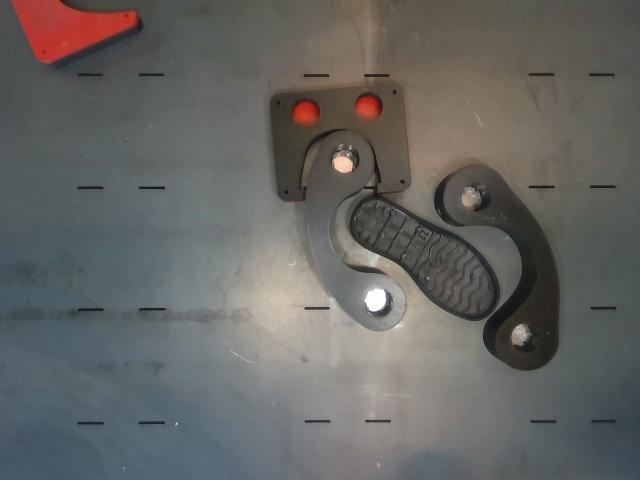shoes: (351, 197, 500, 321)
